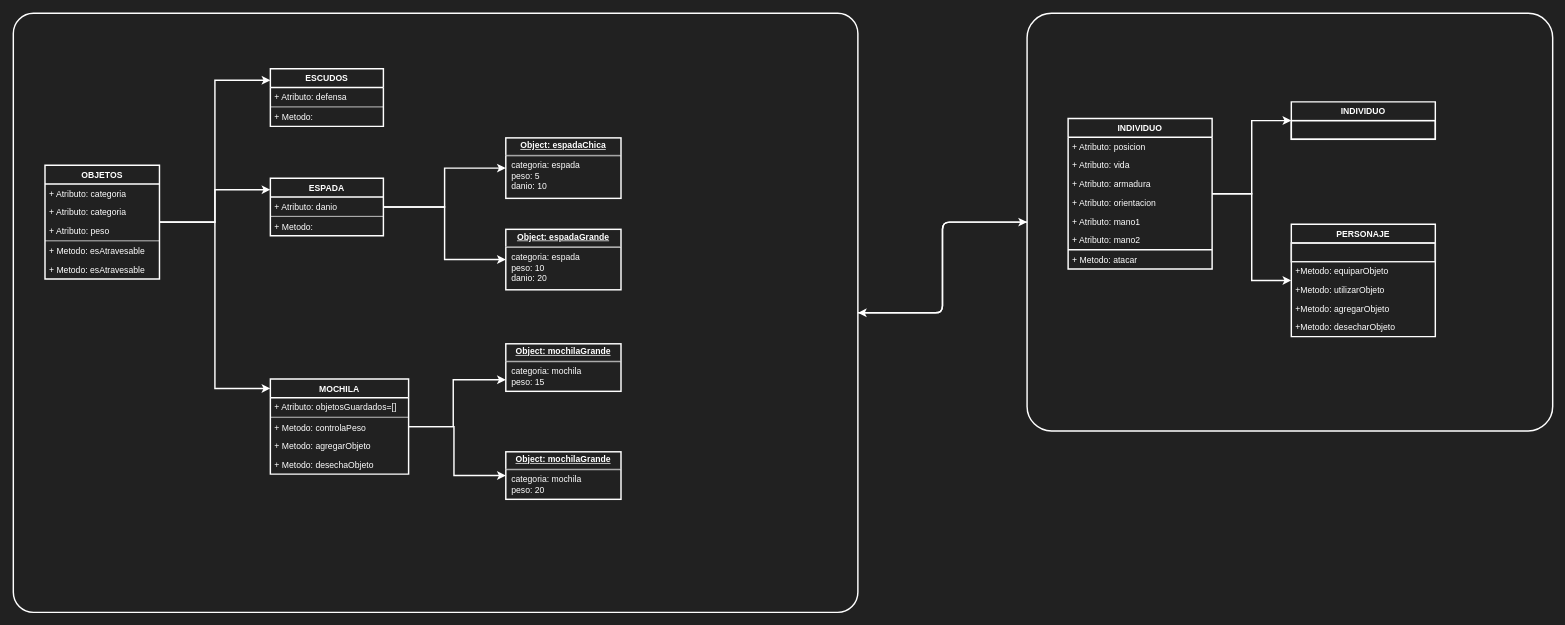
The diagram is 1565 pixels wide and 625 high, and some of its shapes have lost their labels. The centre of each missing label's shape, as x and y in pixels:
+ Atributo: mochila: (x=1363, y=252)
+Atributo: Visible: (x=1363, y=130)
